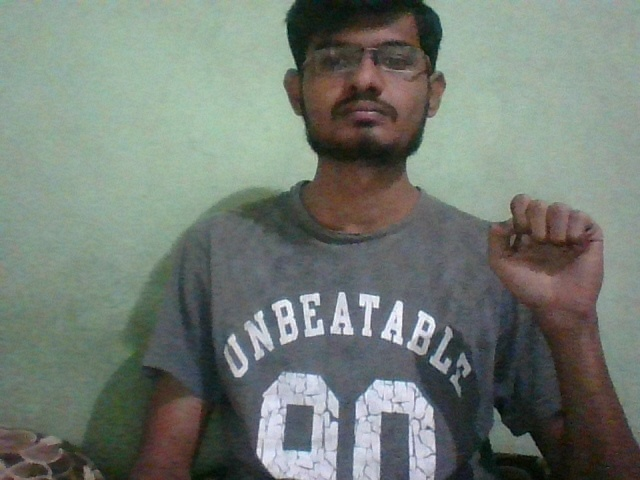yes: (476, 180, 623, 340)
